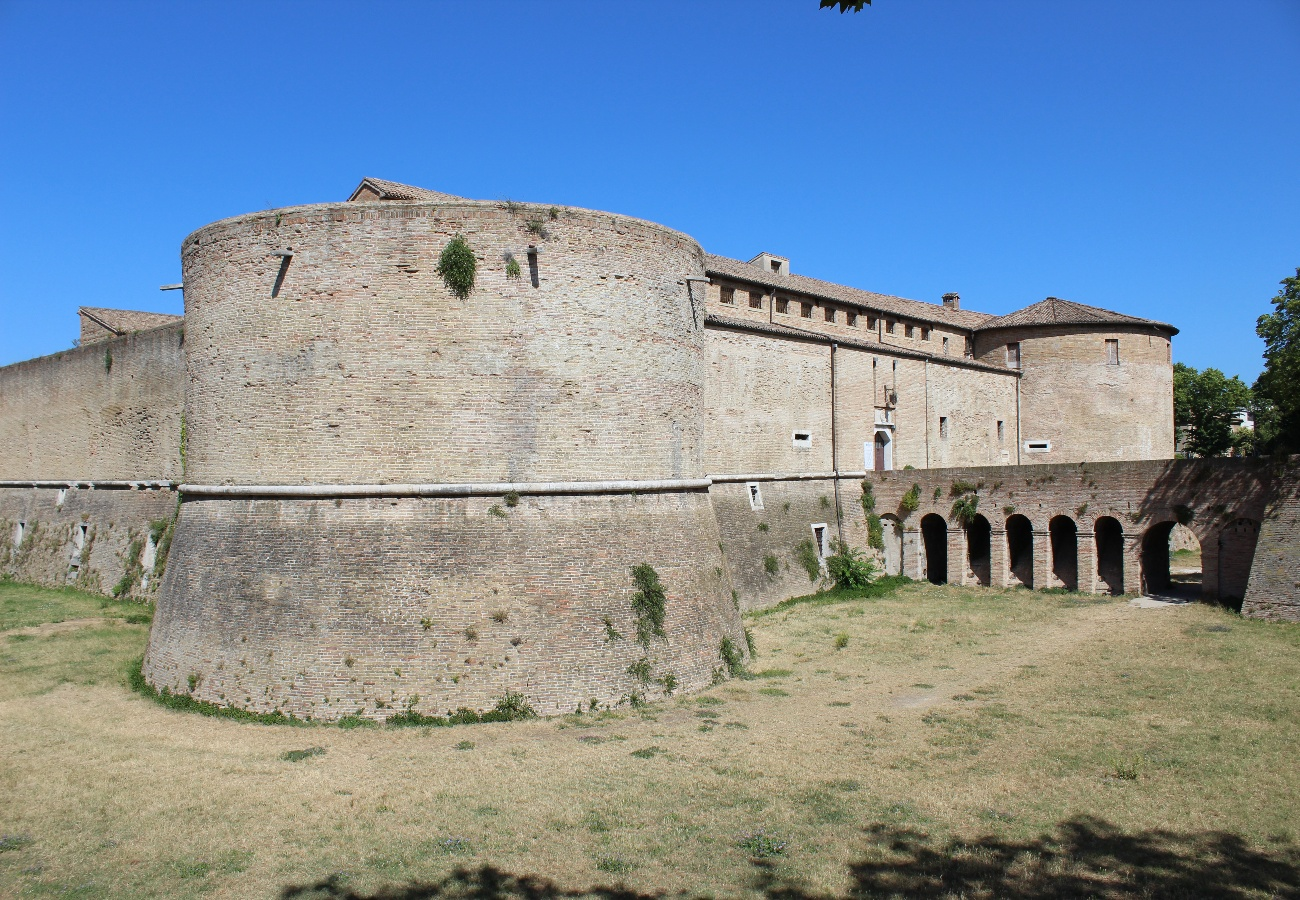Rocca Costanza: (11, 176, 1176, 725)
